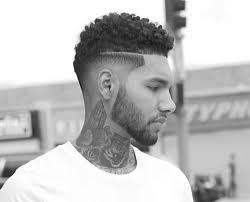black_male: (79, 16, 199, 156)
